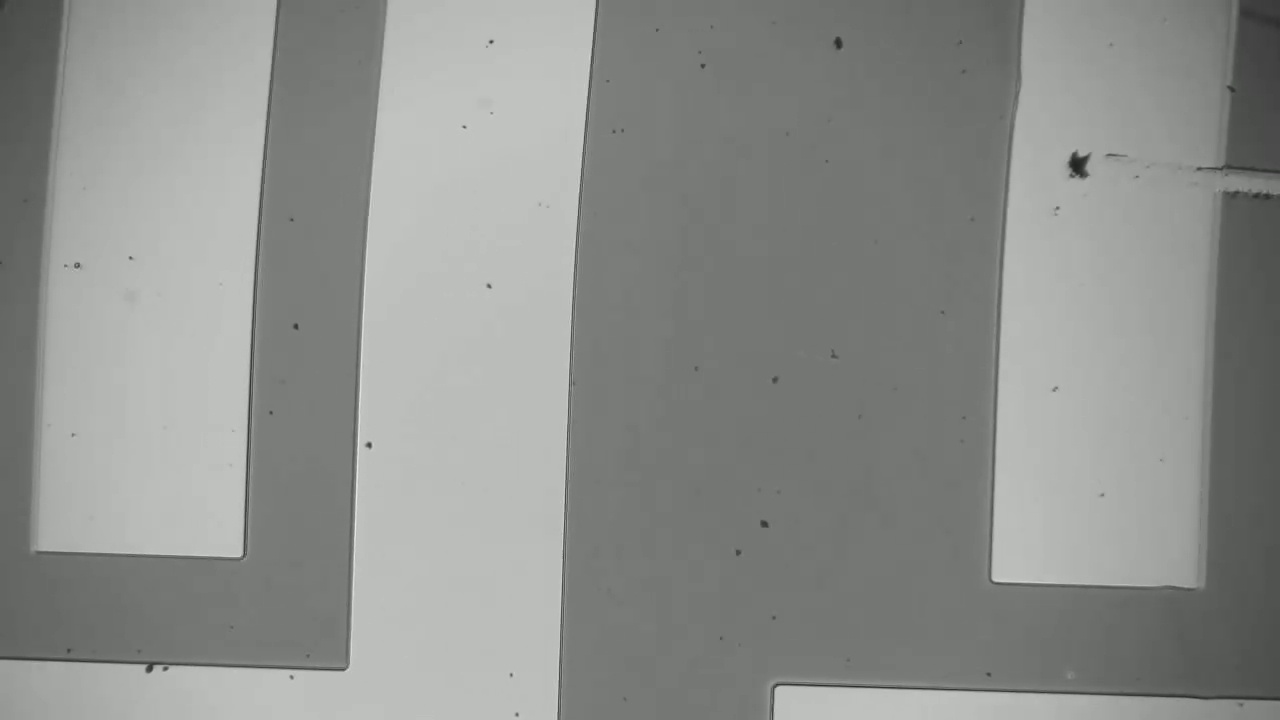Short_circuit: (1172, 149, 1279, 236)
